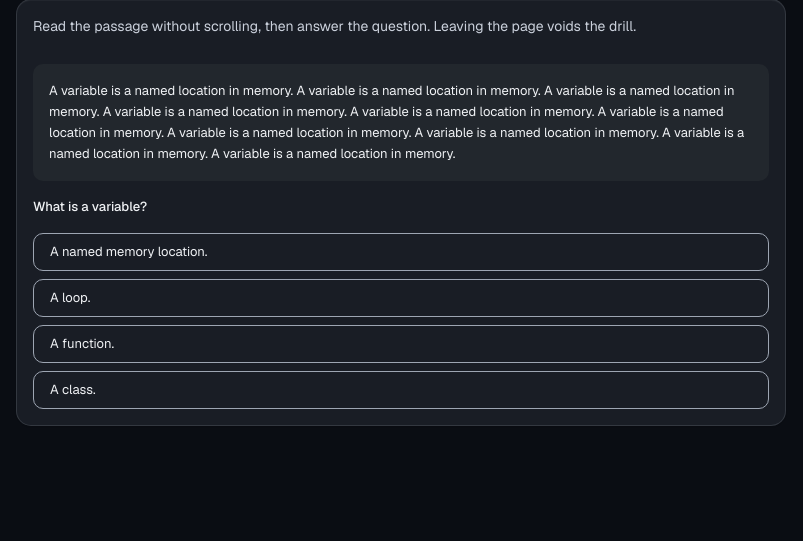
Test: HoldFocus › is incorrect for a wrong option and shows the right one
The width and height of the screenshot is (803, 541).
Click the button "A loop.": (70, 297) [33,278,769,316]
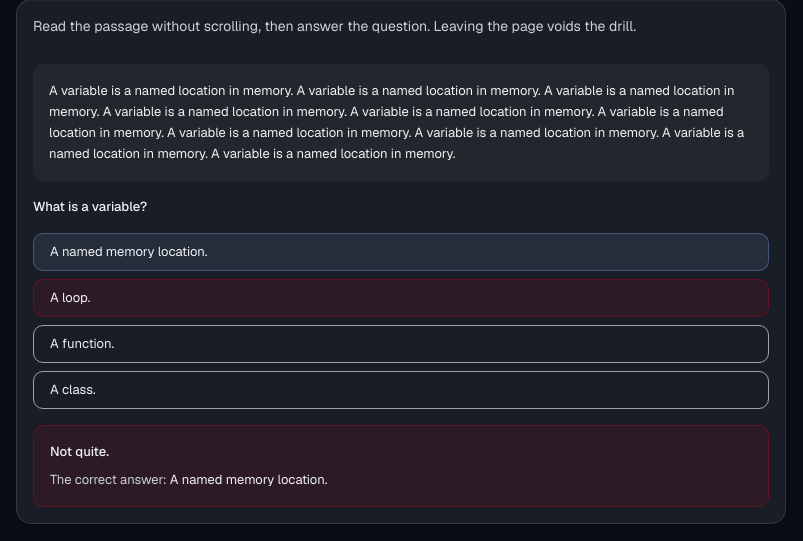
Expected: the text "The correct answer: A named memory location." is shown, [50,470,327,488]
